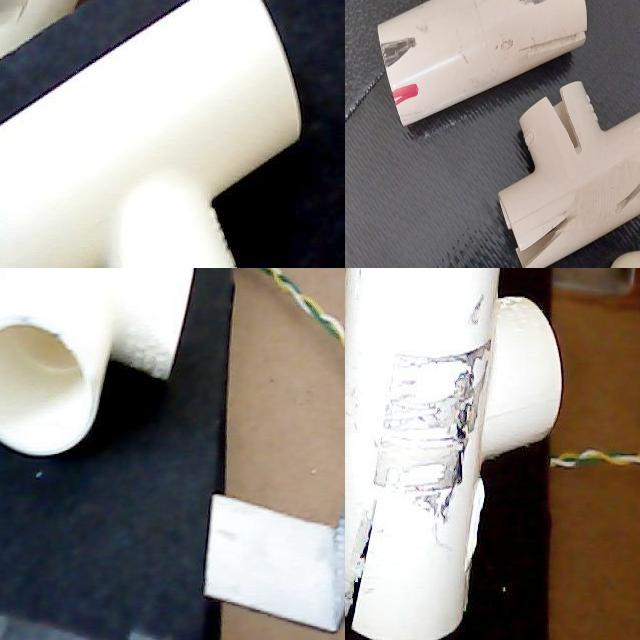Defective: (361, 322, 479, 521), (345, 482, 393, 635), (460, 458, 486, 601), (399, 217, 424, 266), (368, 233, 386, 267)
T Joint: (0, 0, 302, 268), (345, 268, 562, 640), (354, 212, 508, 268)
